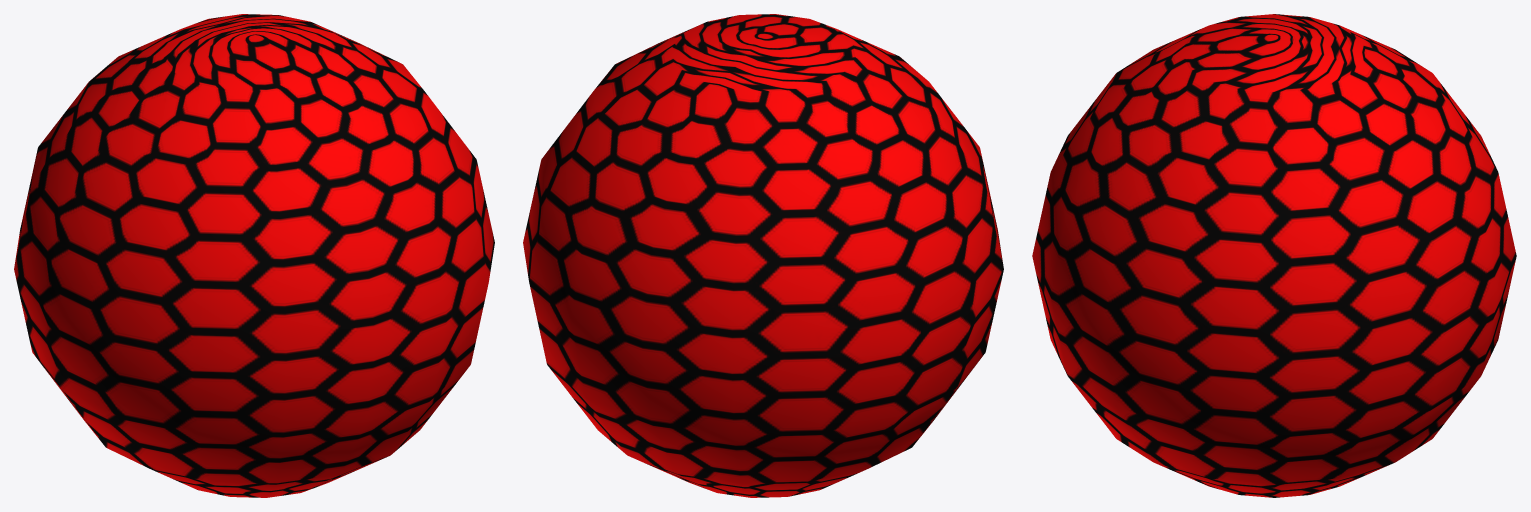
The model's file is ostrichProjectile.fbx.
3 views of the same model, side by side, from view 1: azimuth 30°, elevation 25°; view 2: azimuth 150°, elevation 25°; view 3: azimuth 270°, elevation 25° (orthographic).
Parts seen in each view (by area): view 1: ostrichProjectile; view 2: ostrichProjectile; view 3: ostrichProjectile.
Part boxes in pixels (left/top/right/bottom): ostrichProjectile: left=14, top=14, right=494, bottom=497; ostrichProjectile: left=523, top=14, right=1003, bottom=497; ostrichProjectile: left=1032, top=14, right=1516, bottom=497.
Bounding box in the file's own units: 200 × 200 × 200.
